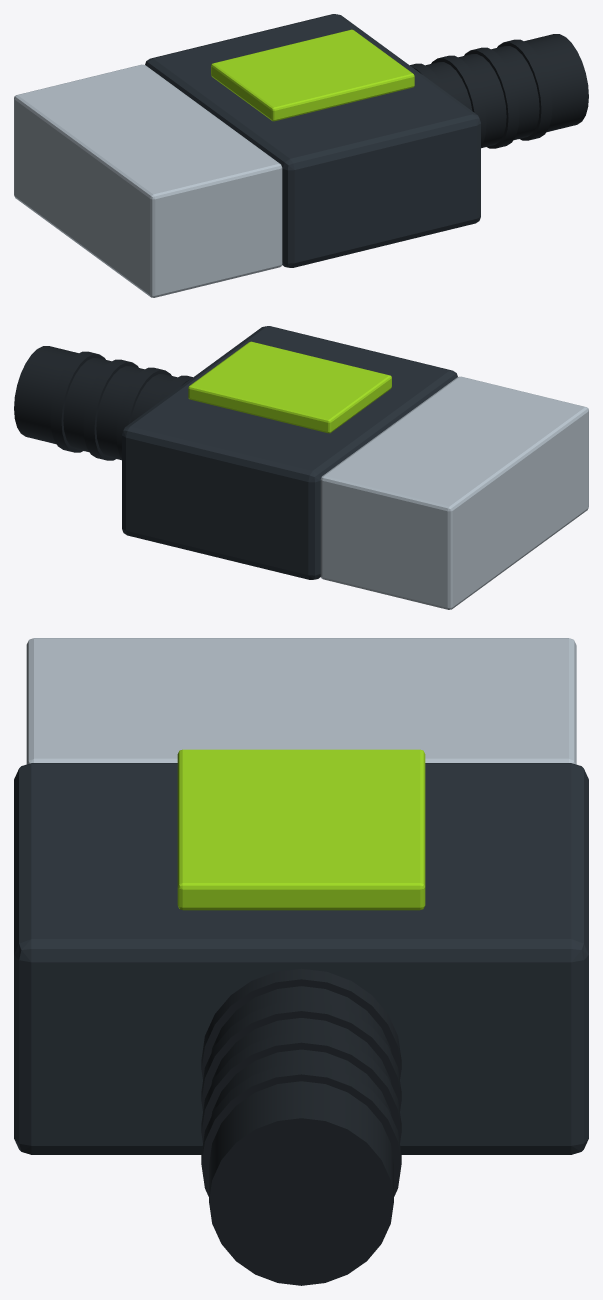
File: SM_Plug_Compute.glb
The picture shows the model from 3 angles, top to bottom: view 1: azimuth 30°, elevation 25°; view 2: azimuth 150°, elevation 25°; view 3: azimuth 270°, elevation 25°; orthographic projection. The views are drawn at different scales.
Parts seen in each view (by area): view 1: SM_Plug_Compute; view 2: SM_Plug_Compute; view 3: SM_Plug_Compute.
Part boxes in pixels (x1,y1,x2,y2): SM_Plug_Compute: [14, 14, 588, 297]; SM_Plug_Compute: [14, 326, 588, 609]; SM_Plug_Compute: [14, 638, 588, 1285].
Bounding box in the file's own units: 0.044 × 0.011 × 0.023.
